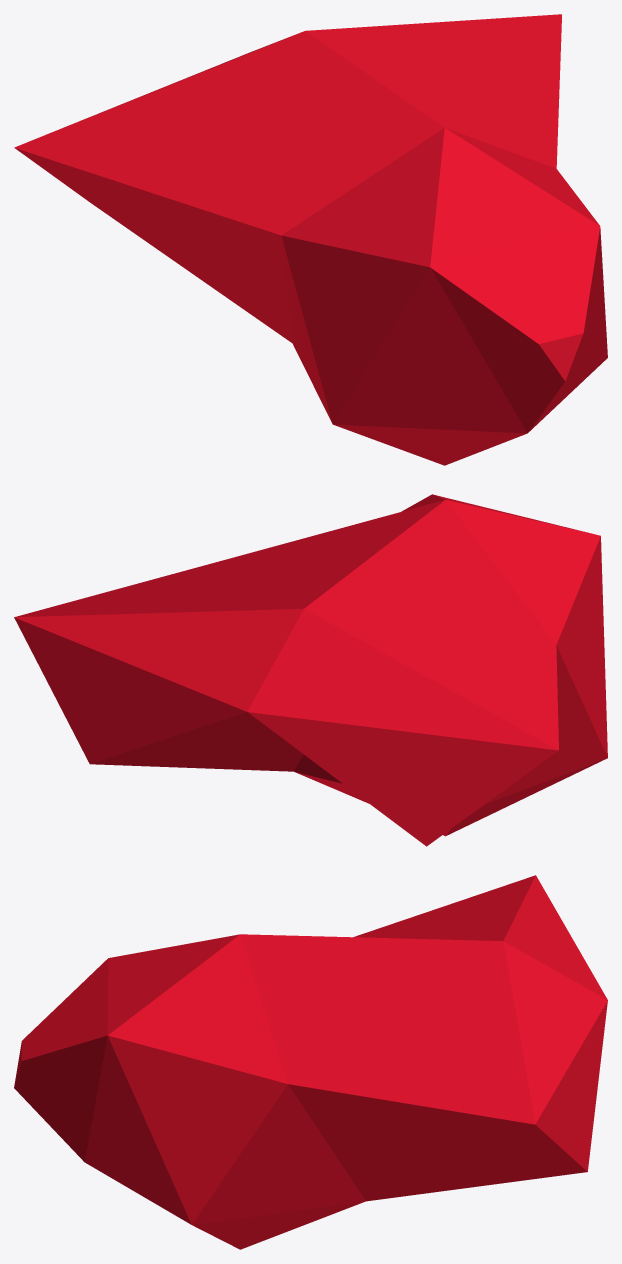
The model's file is RockPlaneTemp.fbx.
3 renders of one model, top to bottom at view 1: azimuth 30°, elevation 25°; view 2: azimuth 150°, elevation 25°; view 3: azimuth 270°, elevation 25°, orthographic. The views are drawn at different scales.
Visible parts, largest first — view 1: Icosphere; view 2: Icosphere; view 3: Icosphere.
Boxes of the visible parts, x1=… form: Icosphere: x1=14, y1=14, x2=607, y2=465; Icosphere: x1=14, y1=494, x2=607, y2=846; Icosphere: x1=14, y1=875, x2=607, y2=1249.
Size of the model in its own units: 340 by 200 by 342.
